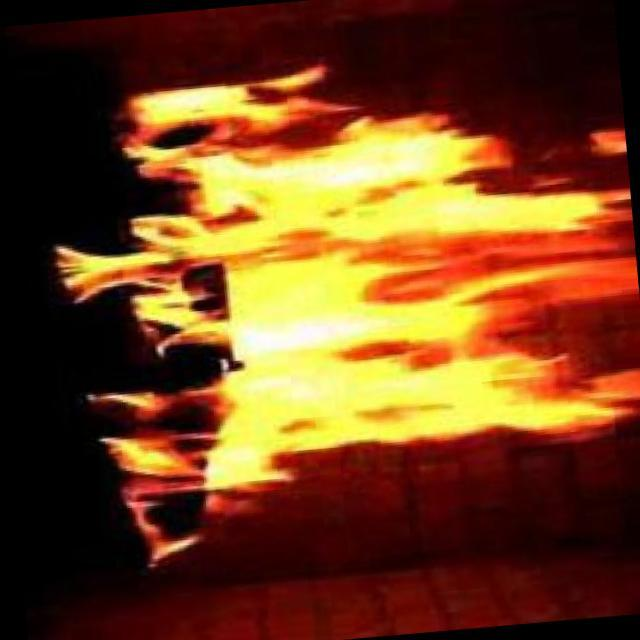Fire: (114, 52, 599, 465)
